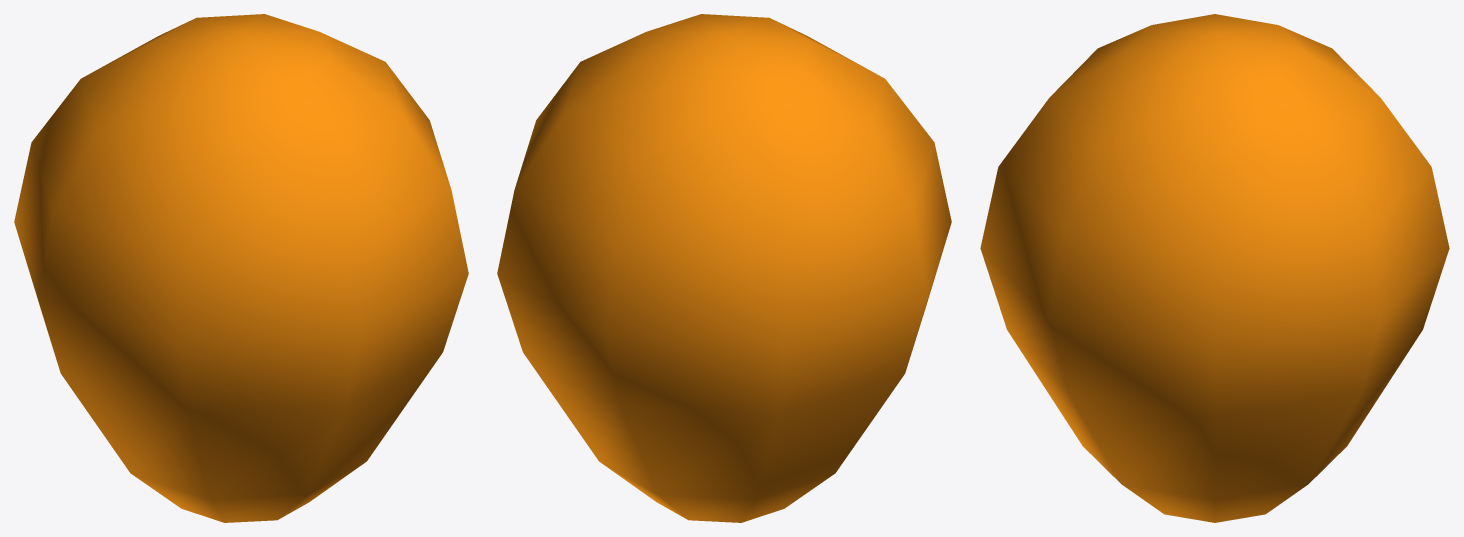
Rendered from SM_O_Balloon.fbx.
3 views of the same model, side by side, from view 1: azimuth 30°, elevation 25°; view 2: azimuth 150°, elevation 25°; view 3: azimuth 270°, elevation 25° (orthographic).
Visible parts, largest first — view 1: SM_O_Balloon; view 2: SM_O_Balloon; view 3: SM_O_Balloon.
Boxes of the visible parts, x1=… form: SM_O_Balloon: x1=14, y1=14, x2=468, y2=522; SM_O_Balloon: x1=497, y1=14, x2=951, y2=522; SM_O_Balloon: x1=980, y1=14, x2=1449, y2=522.
Size of the model in its own units: 27.96 by 30.36 by 27.96.
